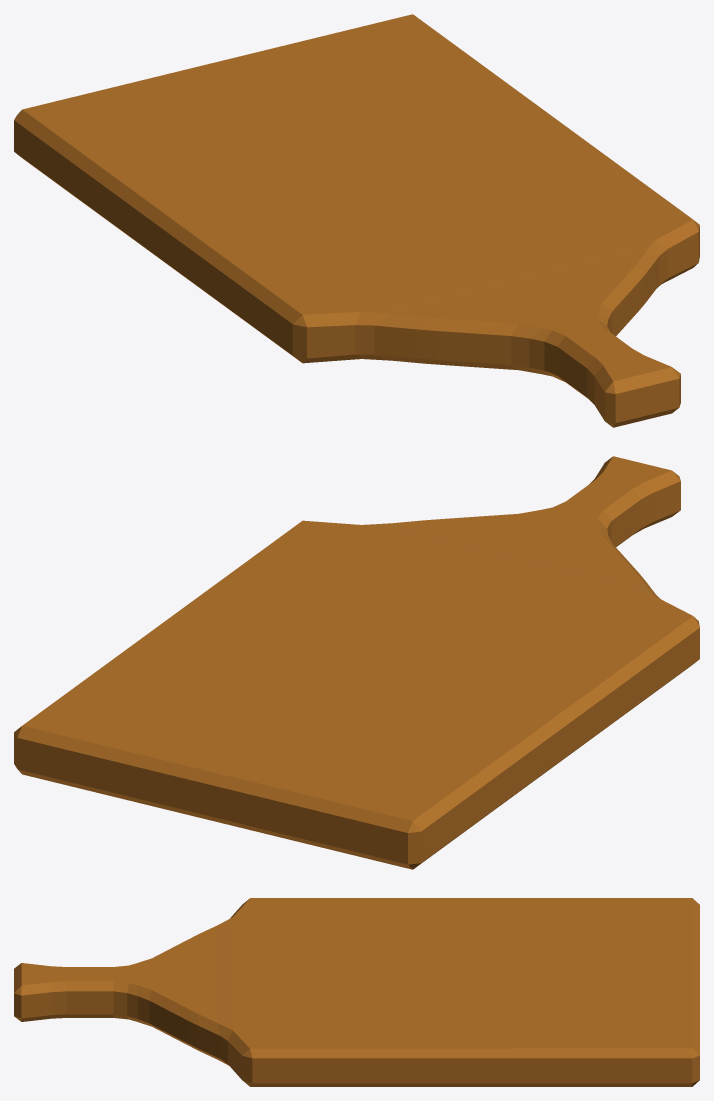
File: cuttingboard.fbx
3 views of the same model, one above another, from view 1: azimuth 30°, elevation 25°; view 2: azimuth 150°, elevation 25°; view 3: azimuth 270°, elevation 25° (orthographic). The views are drawn at different scales.
Visible parts, largest first — view 1: Cube; view 2: Cube; view 3: Cube.
Boxes of the visible parts, x1,y1,x2,y2 form: Cube: [14, 14, 699, 427]; Cube: [14, 456, 699, 869]; Cube: [14, 898, 699, 1086].
Size of the model in its own units: 295 by 33.82 by 545.
